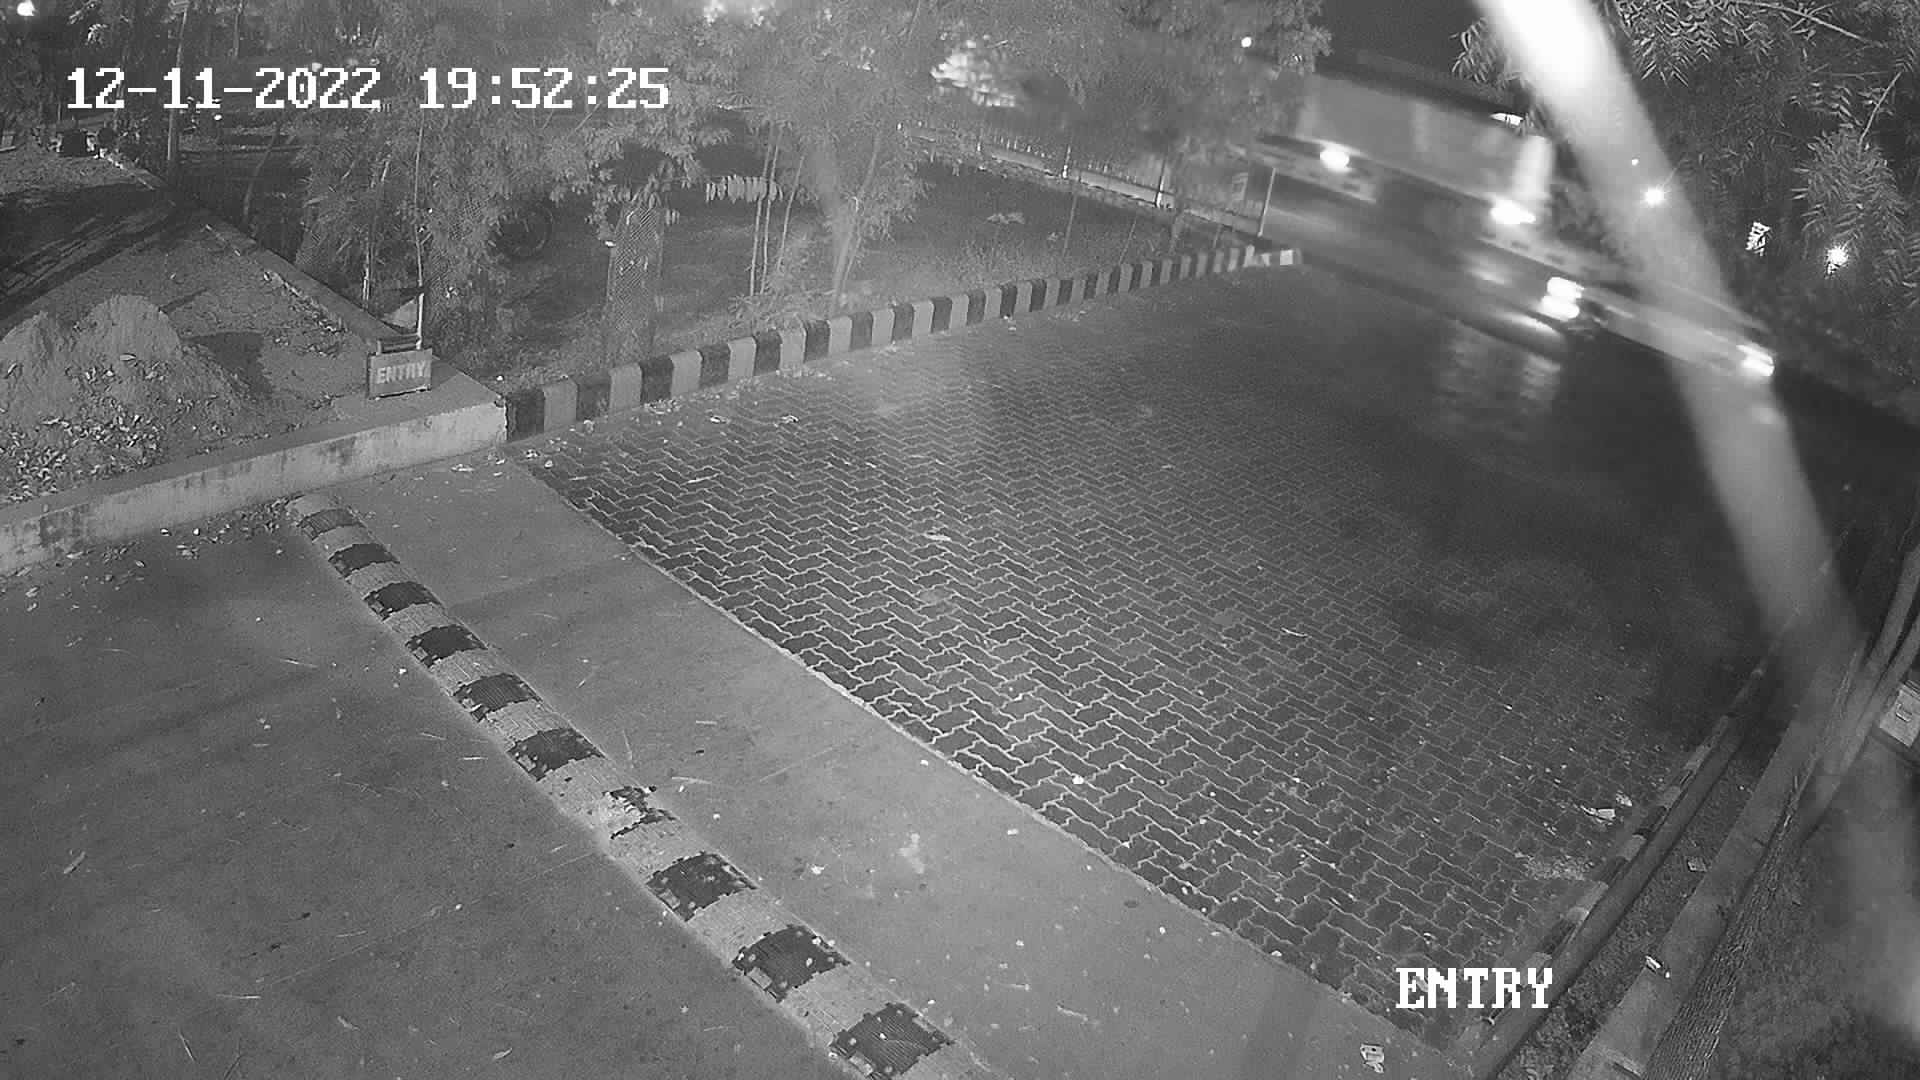Car: (1538, 247, 1793, 406)
HMV: (1233, 0, 1573, 253)
